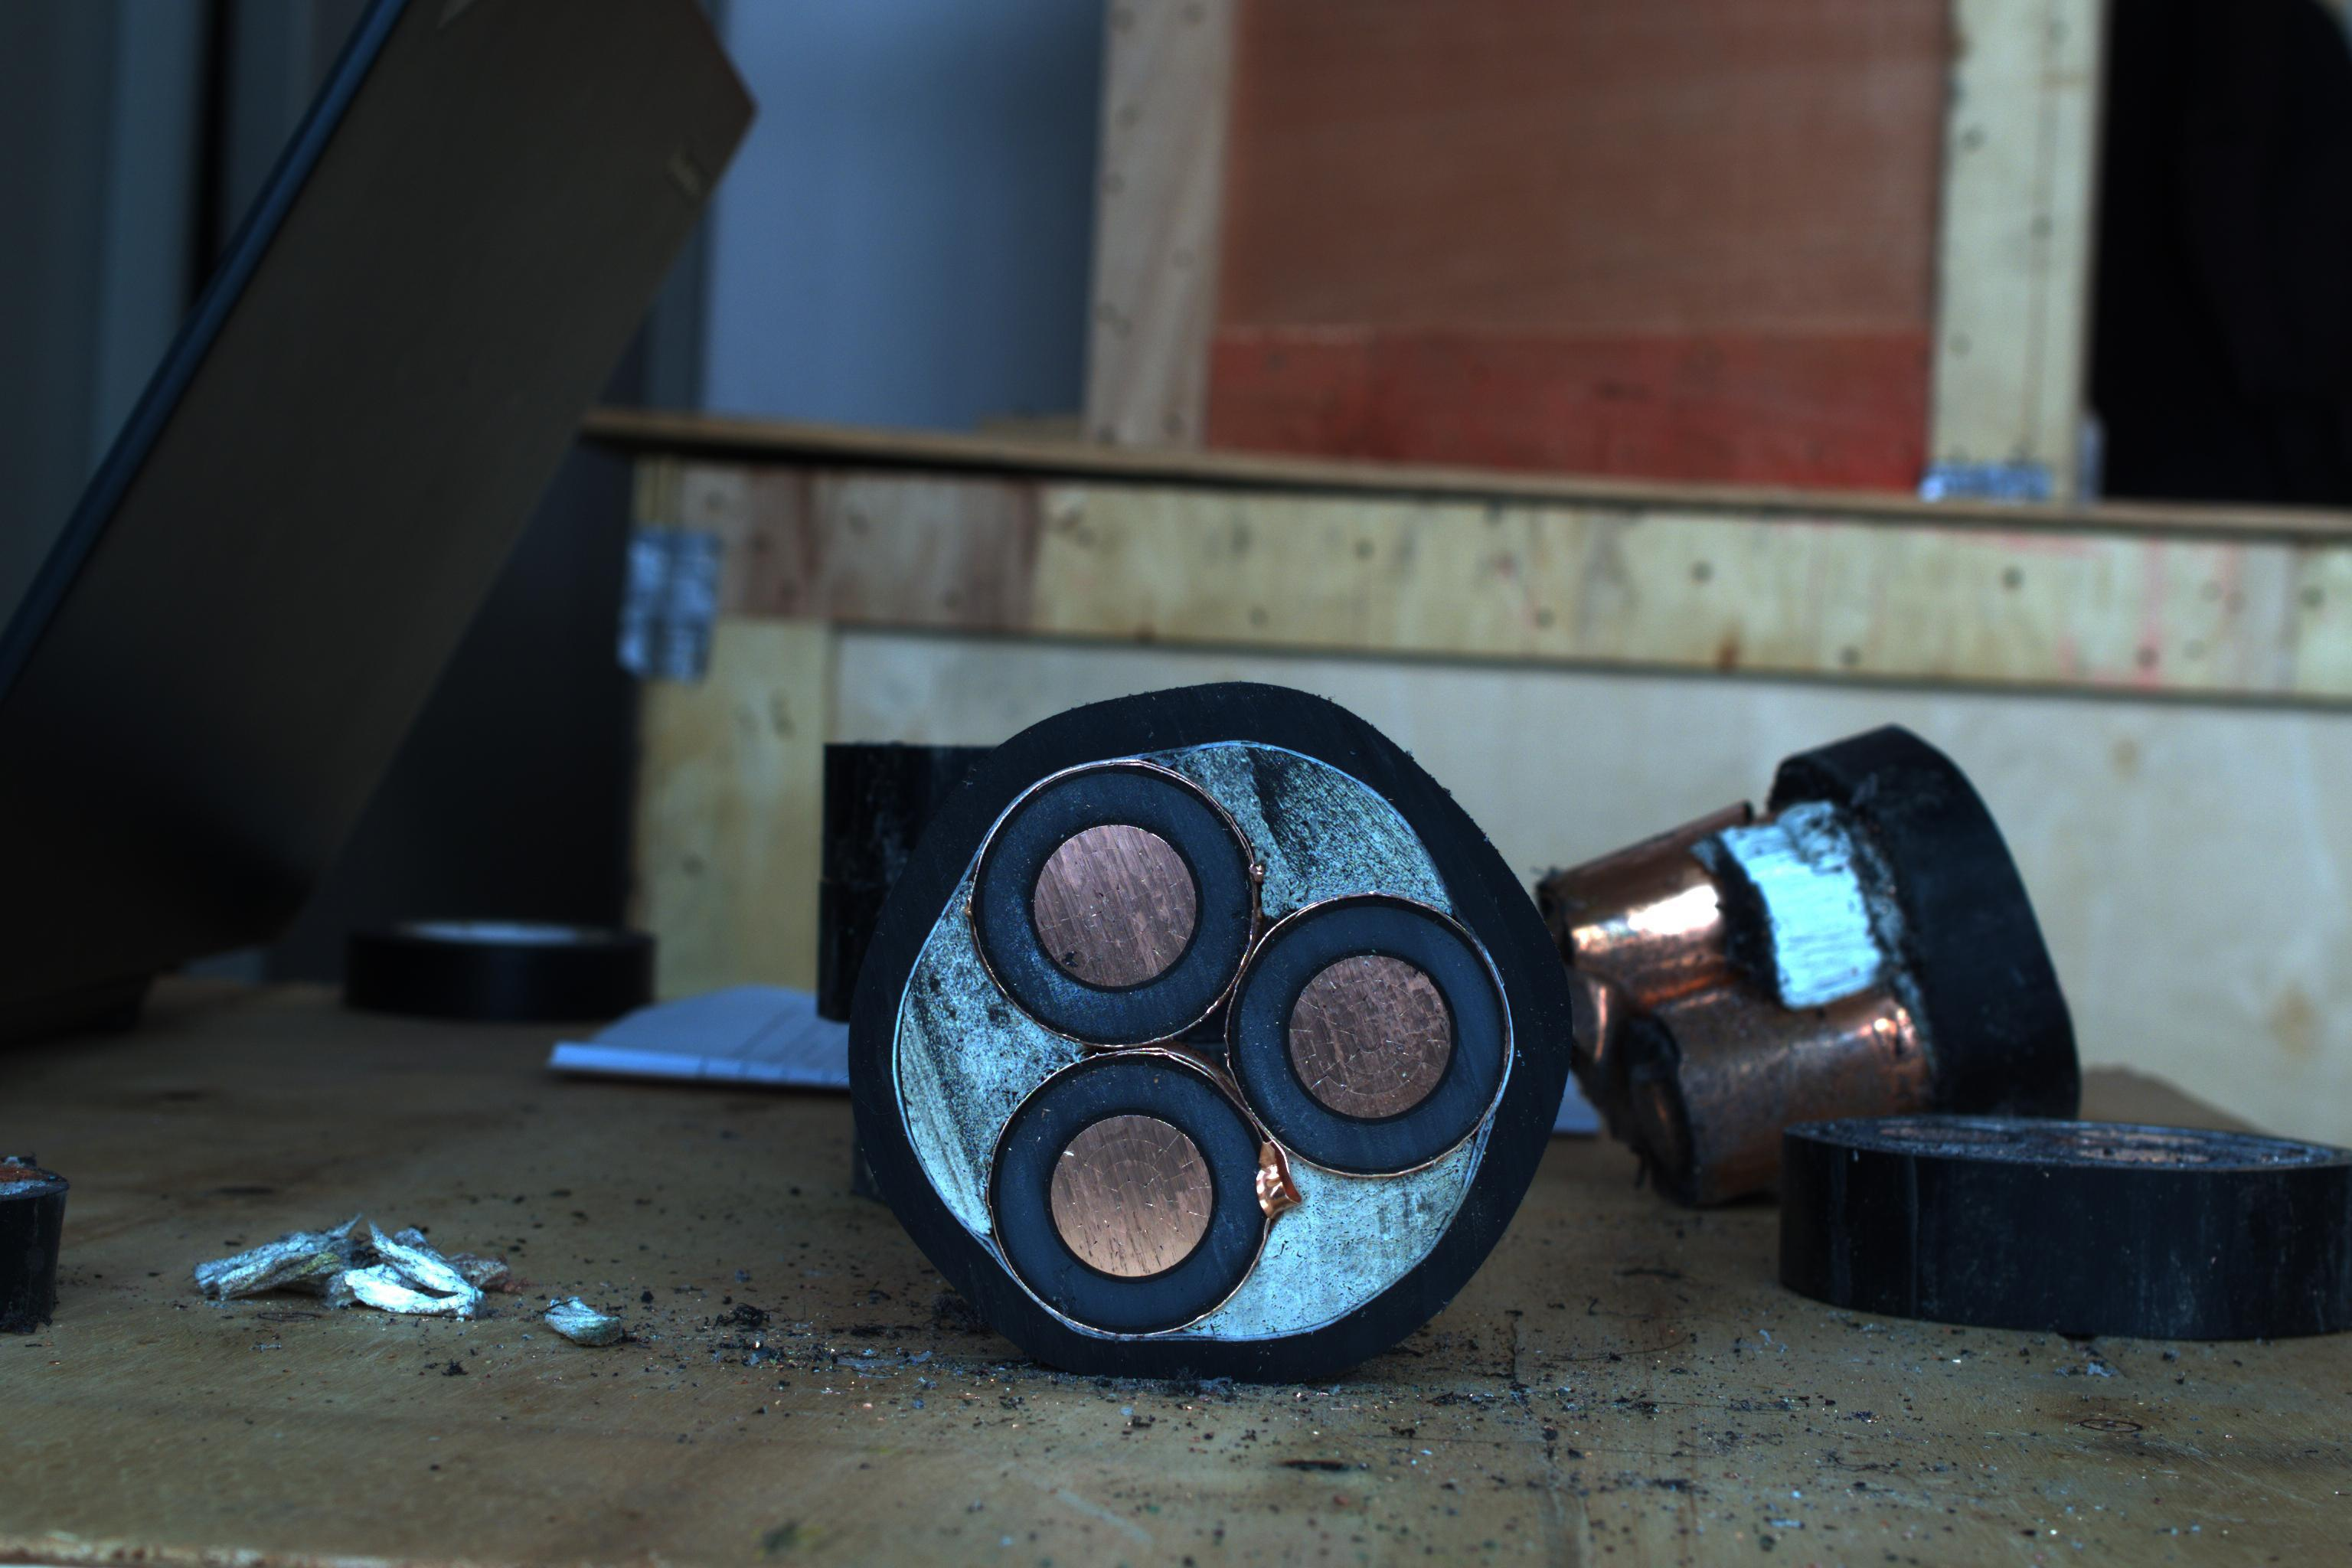ZA_YJV_8.7_10kV_3x240: (877, 696, 1563, 1360)
